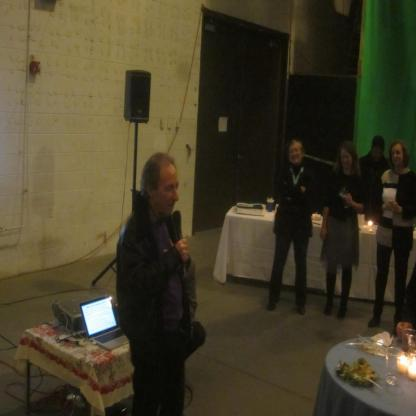board: (78, 292, 130, 353)
